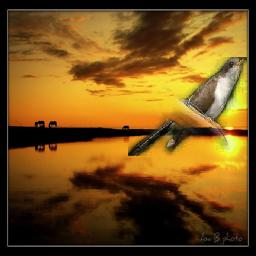Cuckoo: (129, 58, 248, 157)
